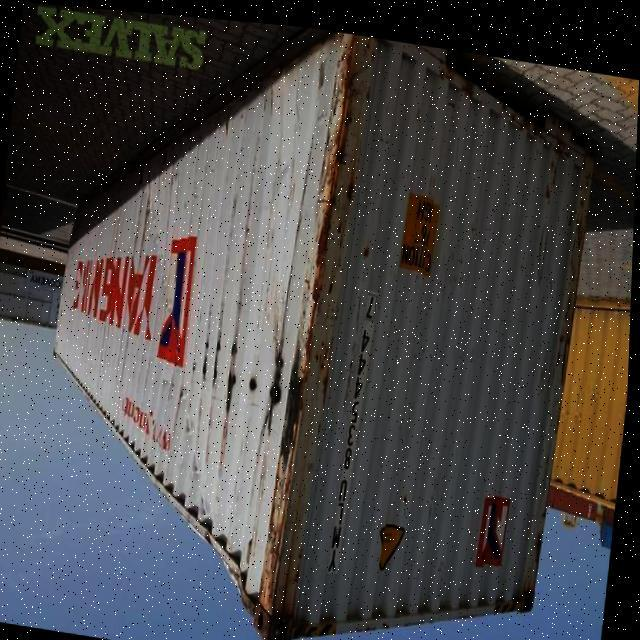dent: (186, 511, 272, 625)
